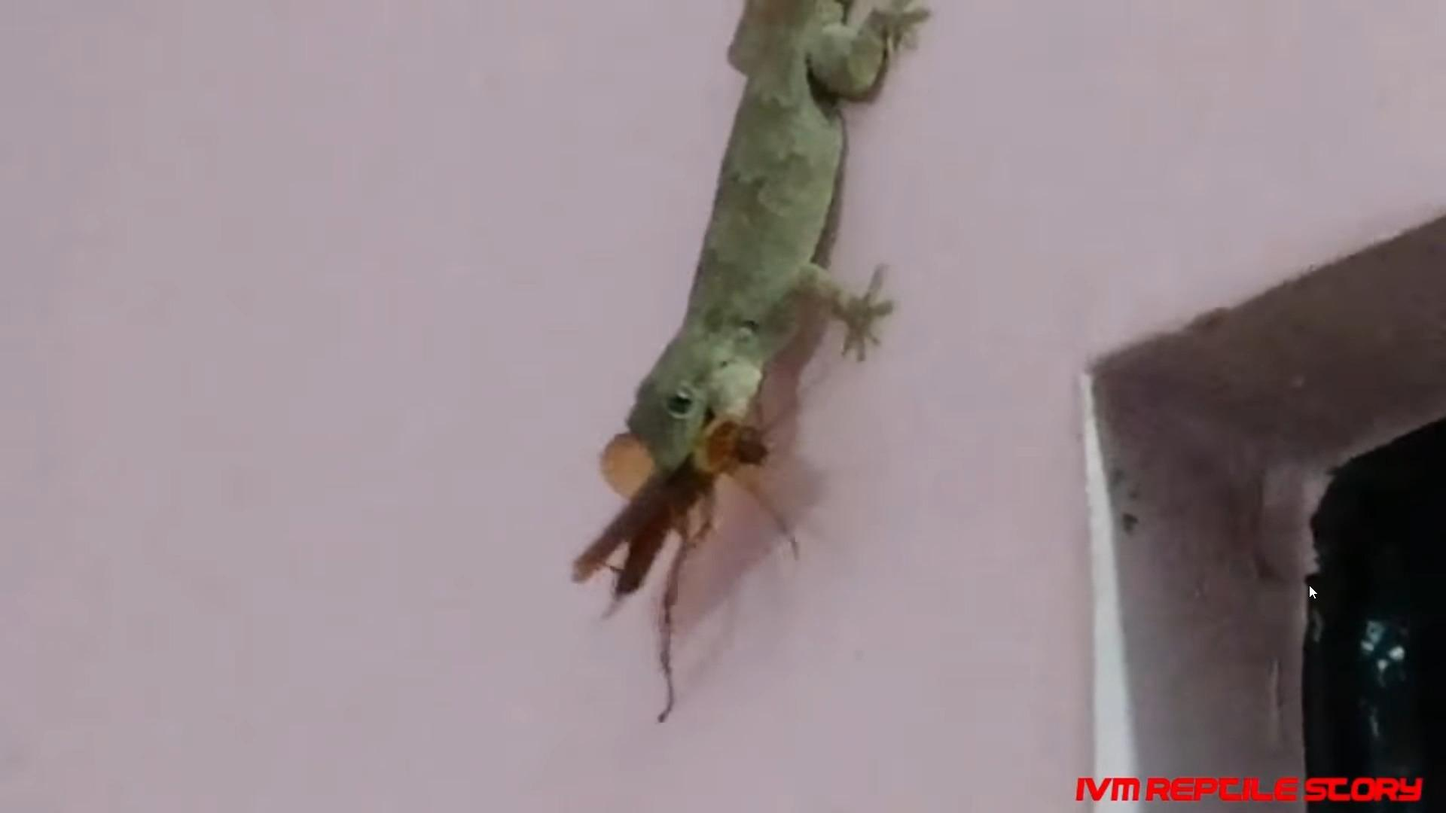cockroach: (578, 437, 779, 623)
lizard: (626, 26, 894, 472)
